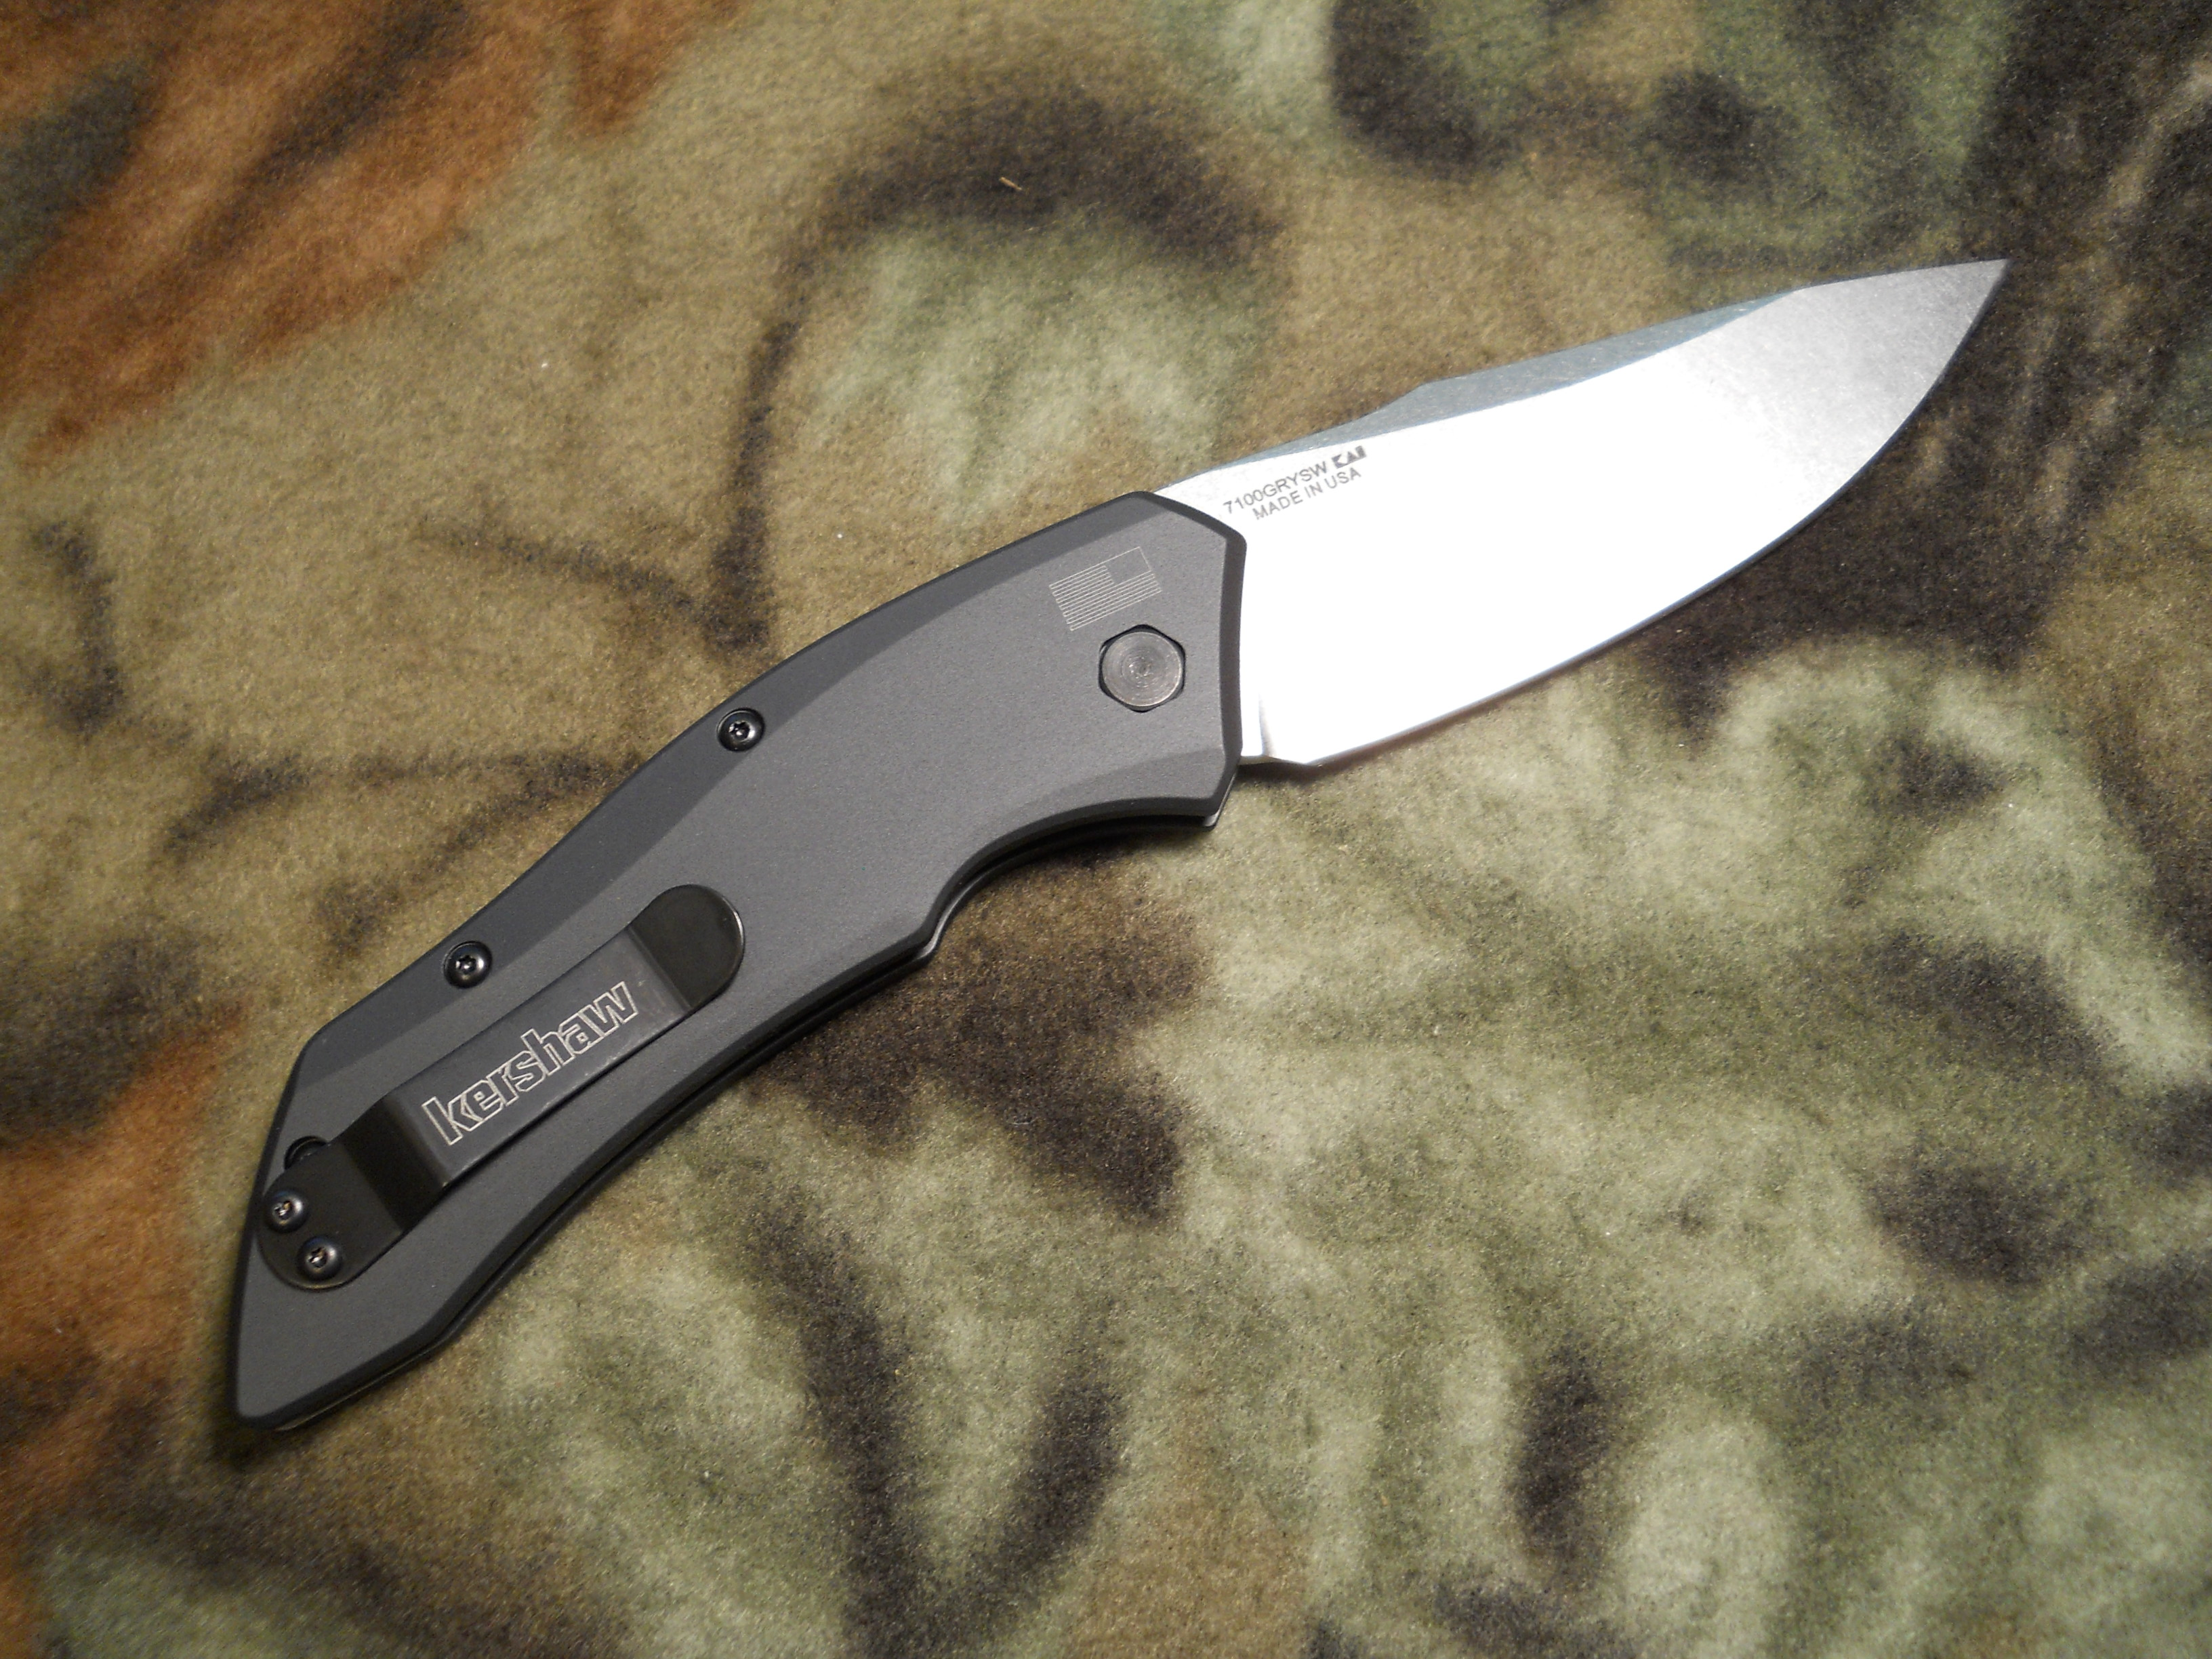knife: (1024, 220, 2083, 805)
